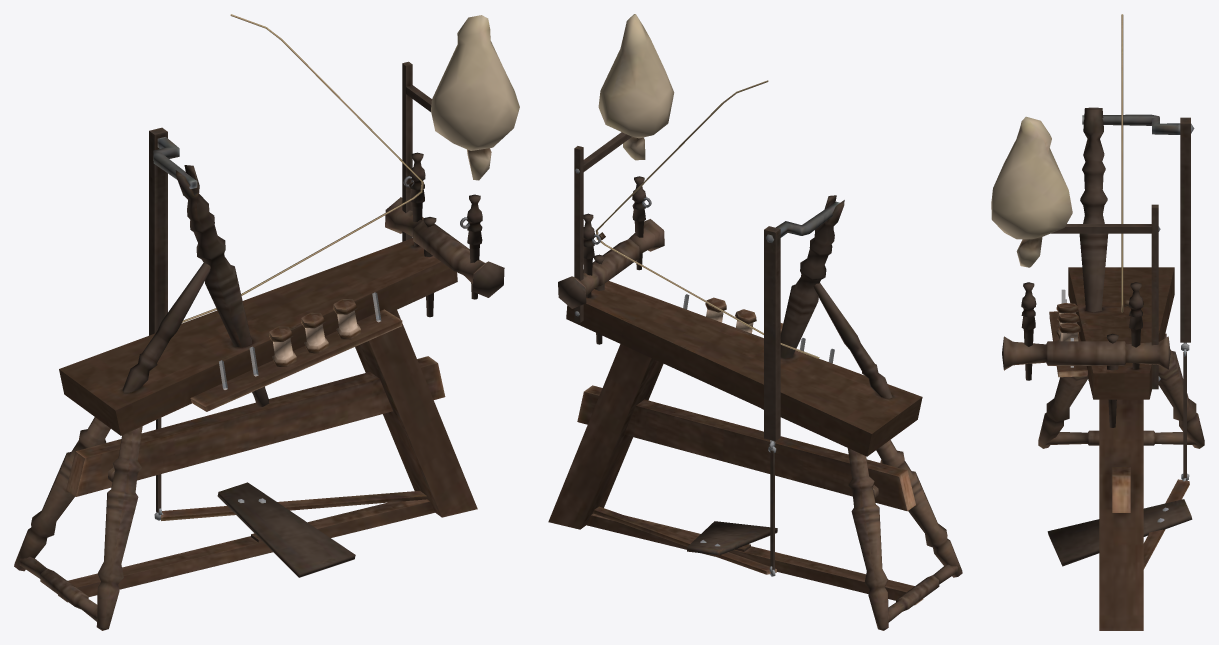
Rendered from spinning_wheel.glb.
The picture shows the model from 3 angles, left to right: view 1: azimuth 30°, elevation 25°; view 2: azimuth 150°, elevation 25°; view 3: azimuth 270°, elevation 25°; orthographic projection. The views are drawn at different scales.
Visible parts, largest first — view 1: npc_props_spinning_wheel_01_a; view 2: npc_props_spinning_wheel_01_a; view 3: npc_props_spinning_wheel_01_a.
Part boxes in pixels (x1=…): npc_props_spinning_wheel_01_a: x1=14, y1=14, x2=519, y2=630; npc_props_spinning_wheel_01_a: x1=548, y1=14, x2=962, y2=630; npc_props_spinning_wheel_01_a: x1=991, y1=14, x2=1204, y2=630.
Bounding box in the file's own units: 1.39 × 1.77 × 0.6689.
1 material, 1 textured.
